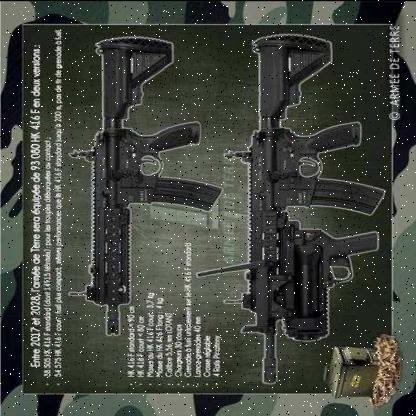rifle: (64, 23, 222, 338)
